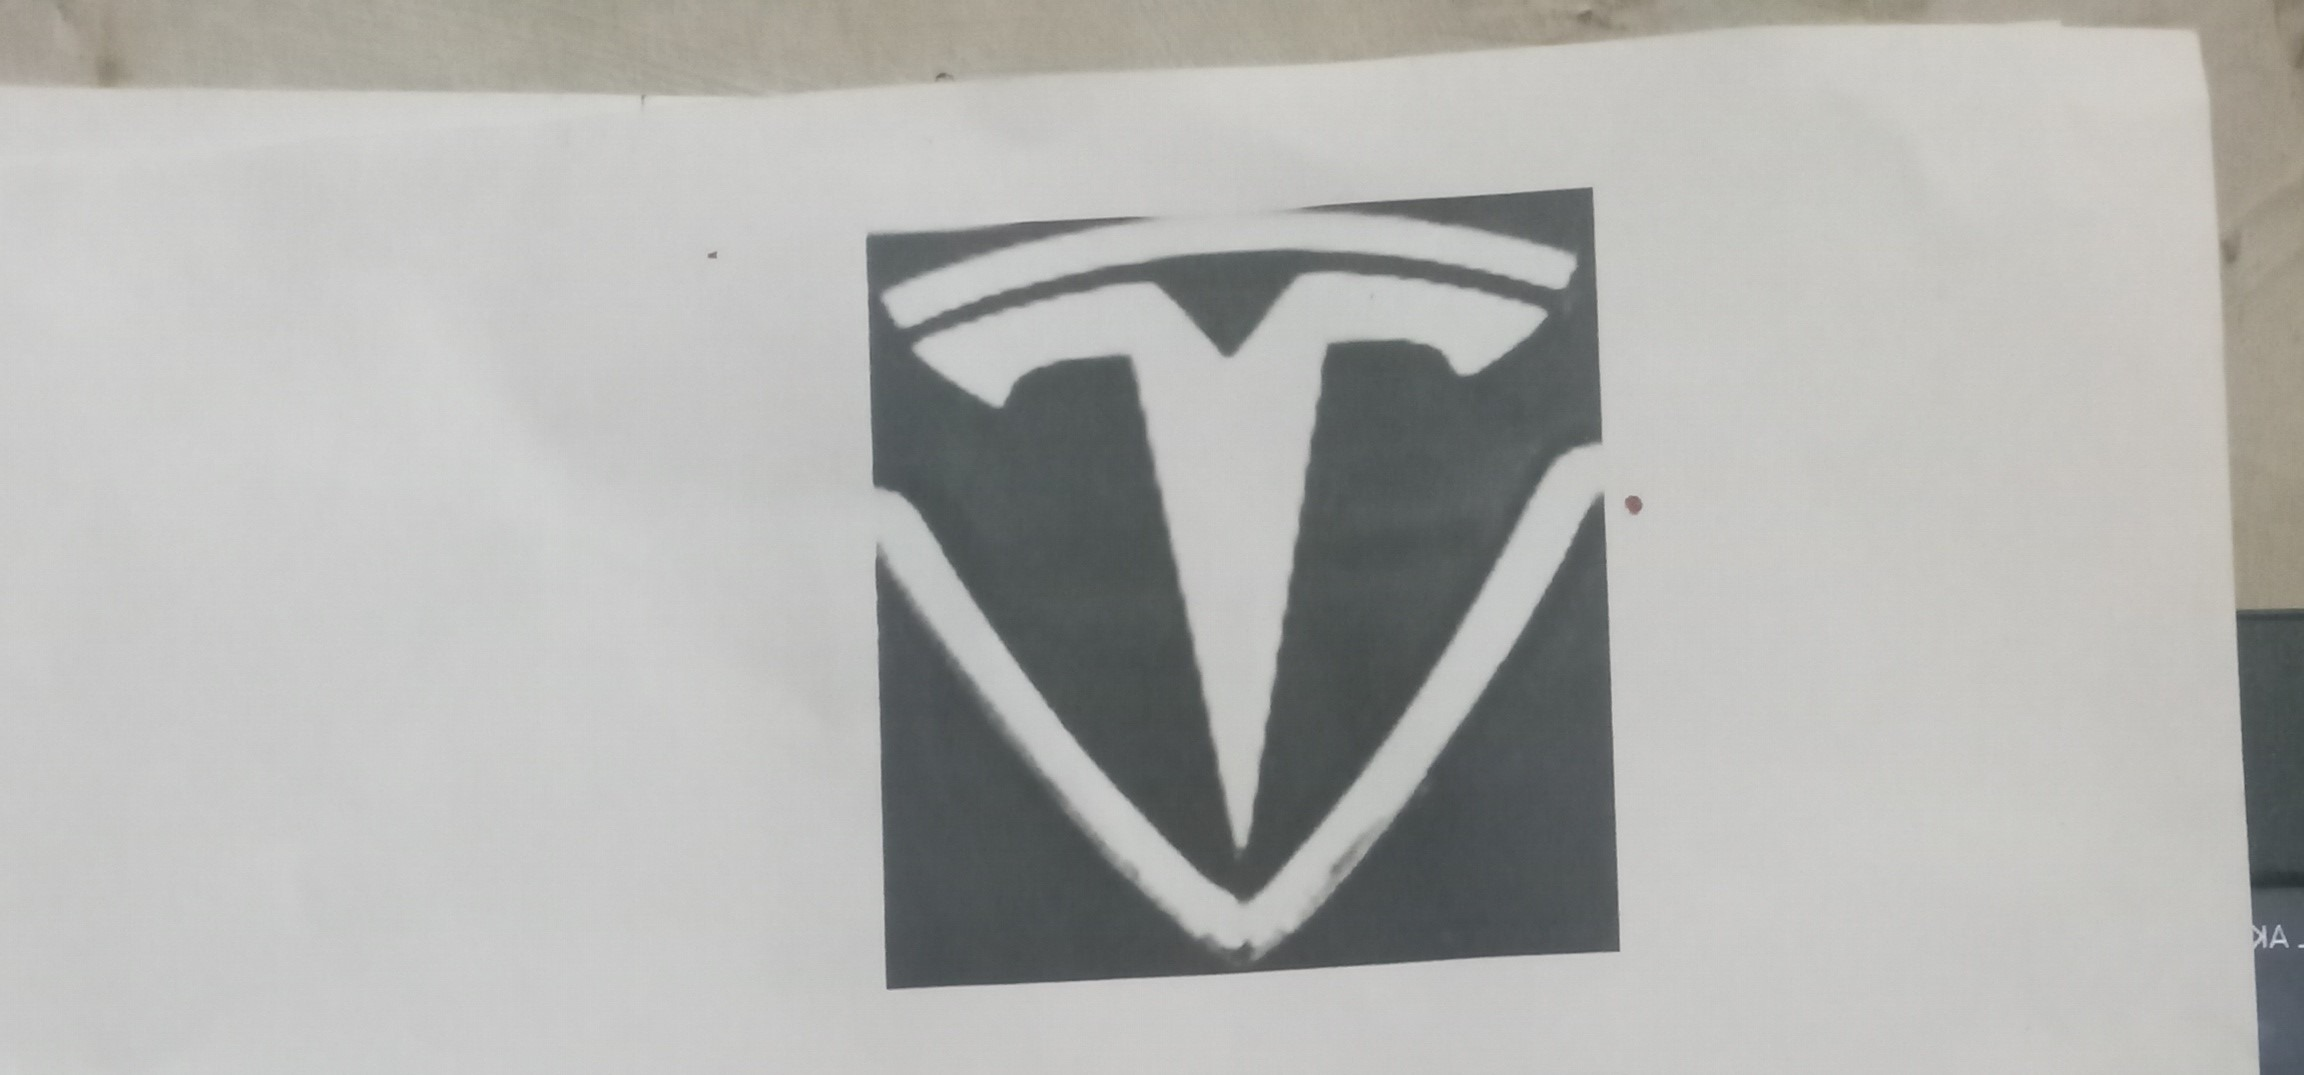Tesla: (857, 216, 1603, 980)
